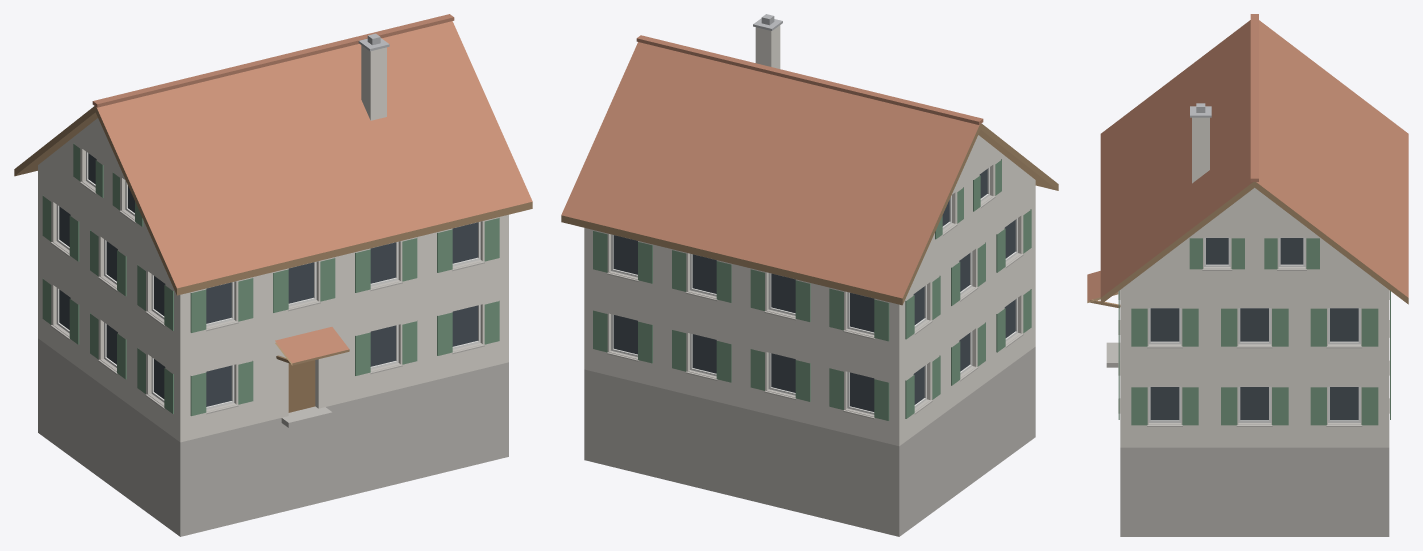
The model's file is house_gable_2_m.glb.
3 renders of one model, left to right at view 1: azimuth 30°, elevation 25°; view 2: azimuth 150°, elevation 25°; view 3: azimuth 270°, elevation 25°, orthographic. The views are drawn at different scales.
Visible parts, largest first — view 1: house_gable_2_m; view 2: house_gable_2_m; view 3: house_gable_2_m.
Part boxes in pixels (x1=…): house_gable_2_m: x1=14, y1=14, x2=532, y2=536; house_gable_2_m: x1=561, y1=14, x2=1058, y2=536; house_gable_2_m: x1=1087, y1=14, x2=1408, y2=536.
Size of the model in its own units: 13.04 by 14.38 by 10.75.
